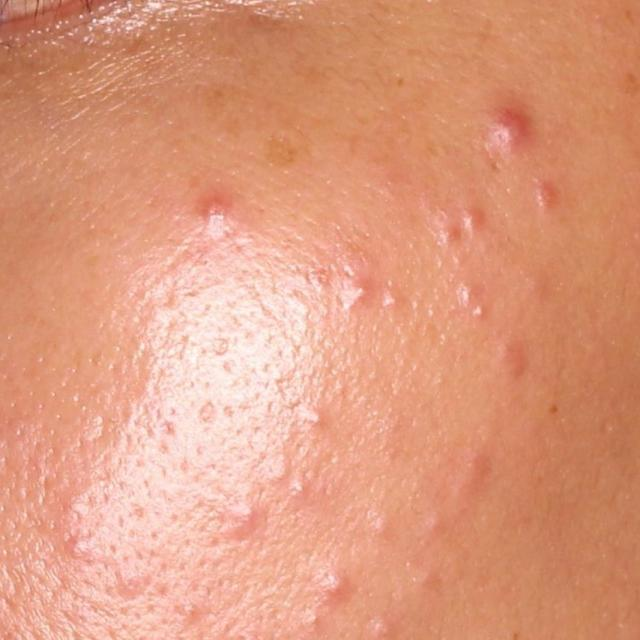nodule: (490, 112, 530, 150), (320, 570, 349, 600), (201, 198, 230, 224), (535, 186, 556, 208), (464, 210, 484, 230), (440, 225, 461, 244)
